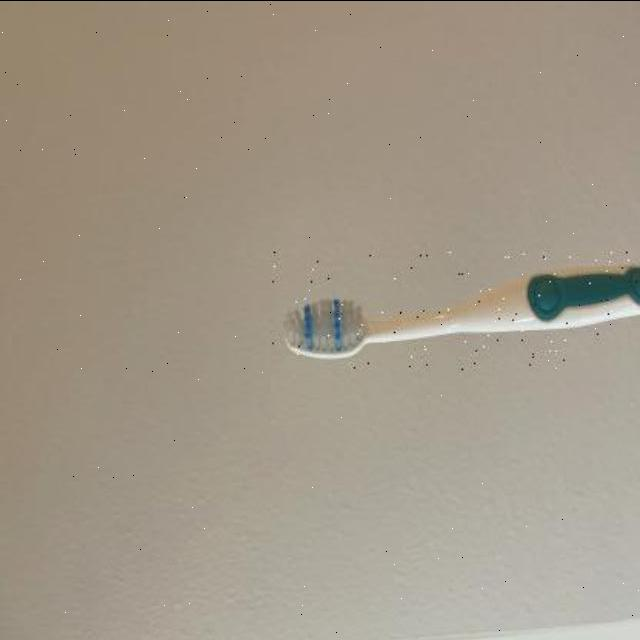toothbrush: (270, 251, 640, 369)
